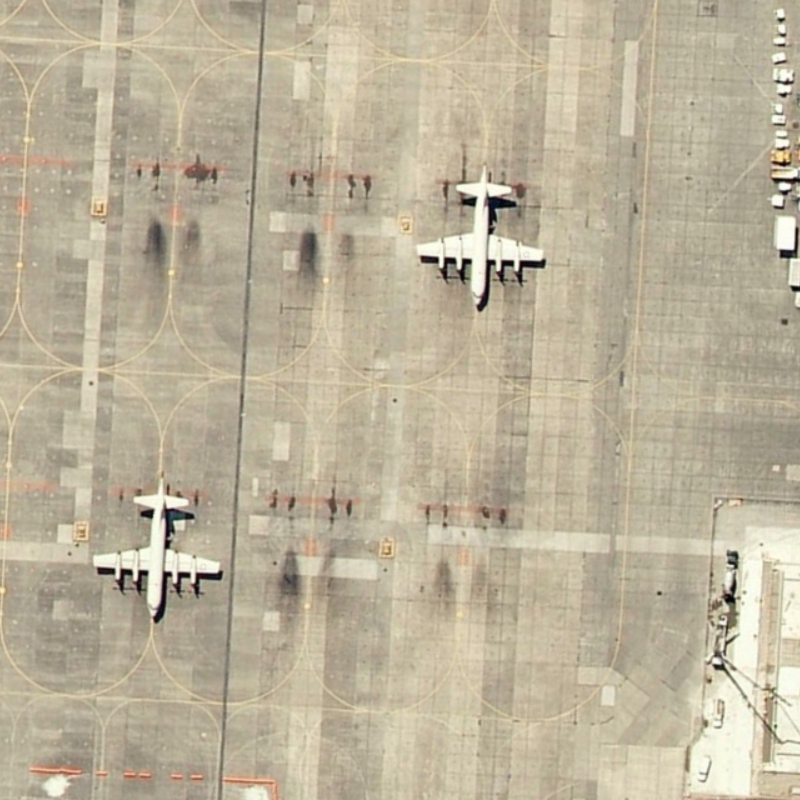A9: (83, 462, 231, 634), (414, 157, 554, 318)
